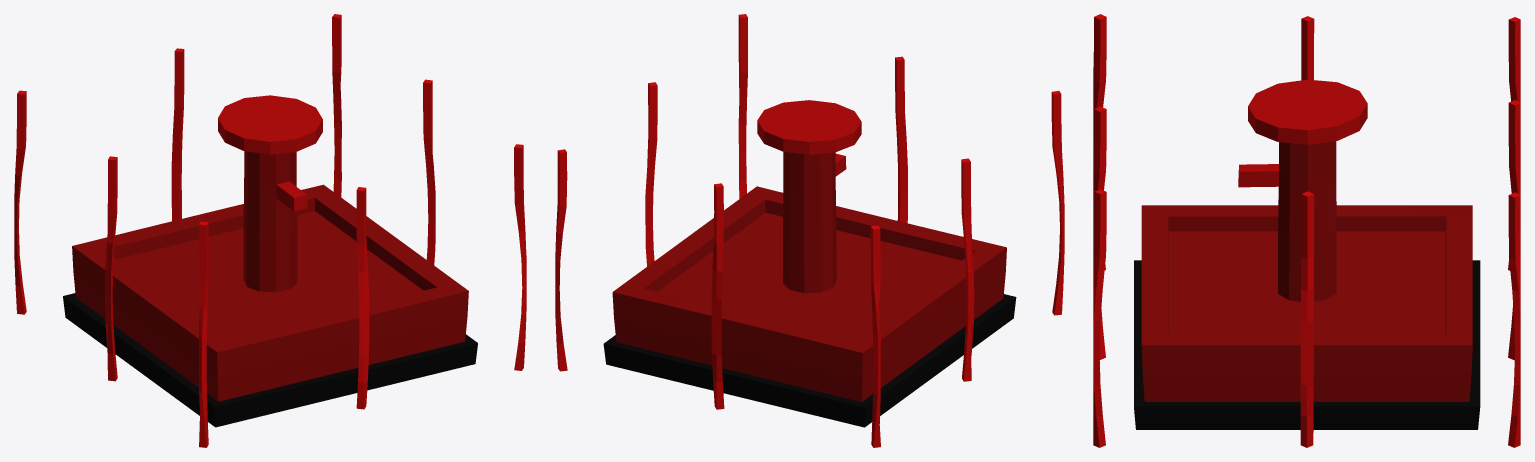
Rendered from fountain.glb.
The picture shows the model from 3 angles, left to right: view 1: azimuth 30°, elevation 25°; view 2: azimuth 150°, elevation 25°; view 3: azimuth 270°, elevation 25°; orthographic projection. The views are drawn at different scales.
Visible parts, largest first — view 1: fountain; view 2: fountain; view 3: fountain.
Part boxes in pixels (bbox=[...]): fountain: bbox=[14, 14, 526, 447]; fountain: bbox=[555, 14, 1064, 447]; fountain: bbox=[1093, 14, 1520, 447].
Bounding box in the file's own units: 2 × 1.32 × 2.
